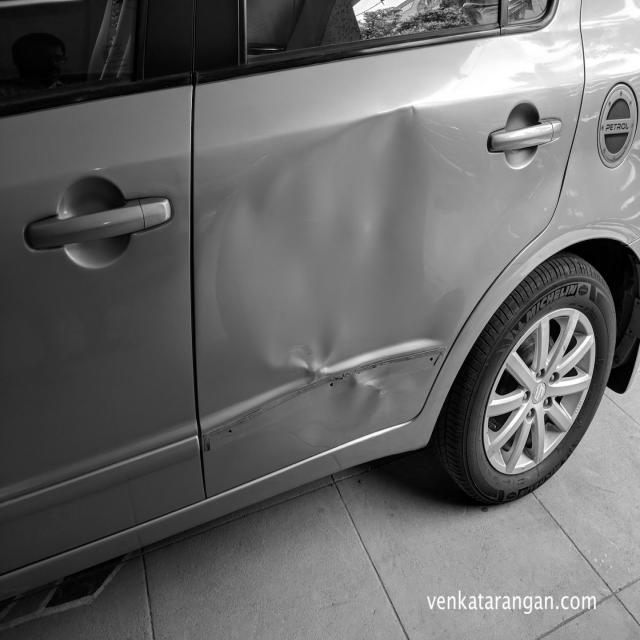dent: (188, 104, 542, 431)
missing: (203, 346, 445, 456)
scratch: (419, 117, 478, 179), (366, 381, 389, 400)
